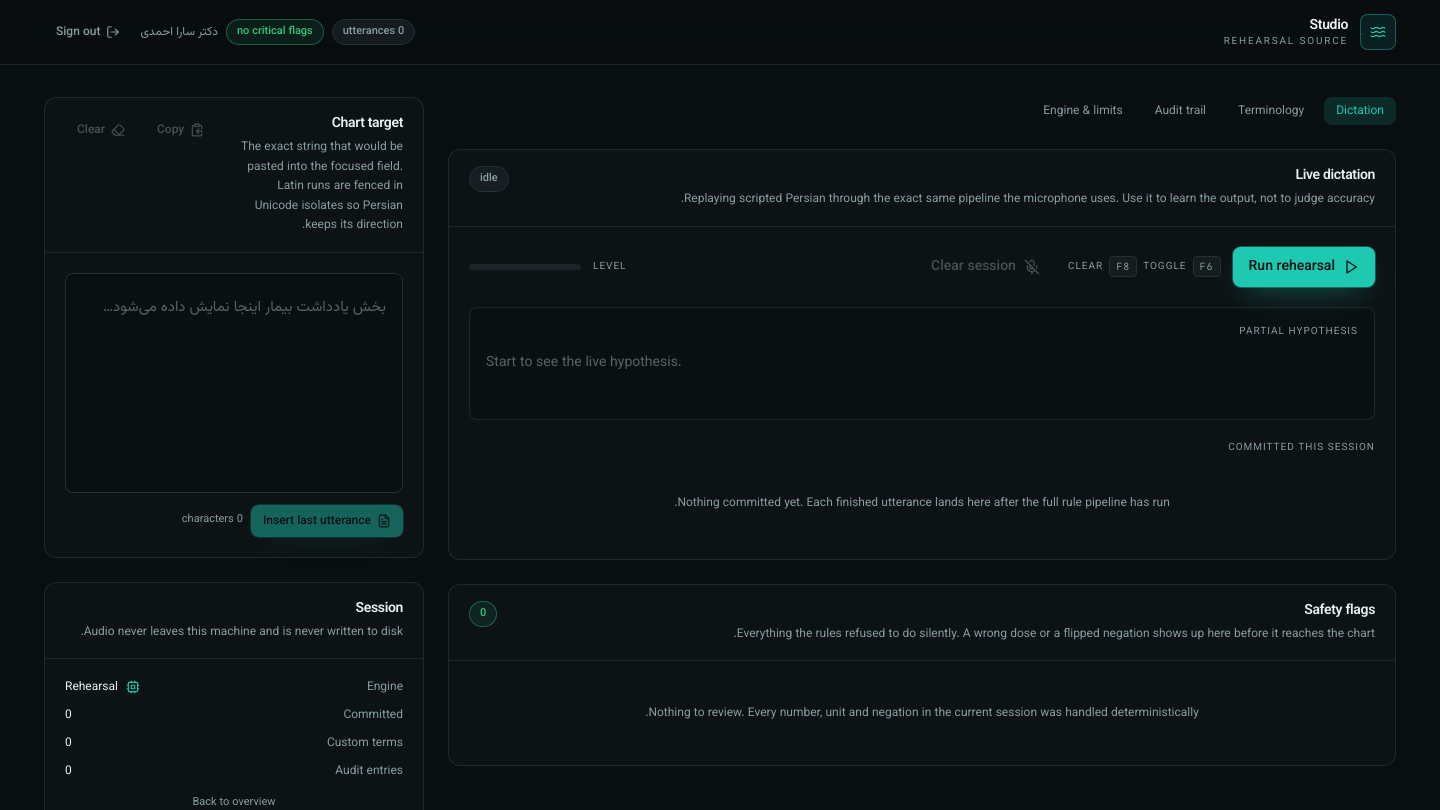
studio › starts a rehearsal session and commits processed utterances
The image size is (1440, 810).
Click the button "Run rehearsal" at point(1304, 266), box 1232,246 -> 1375,286
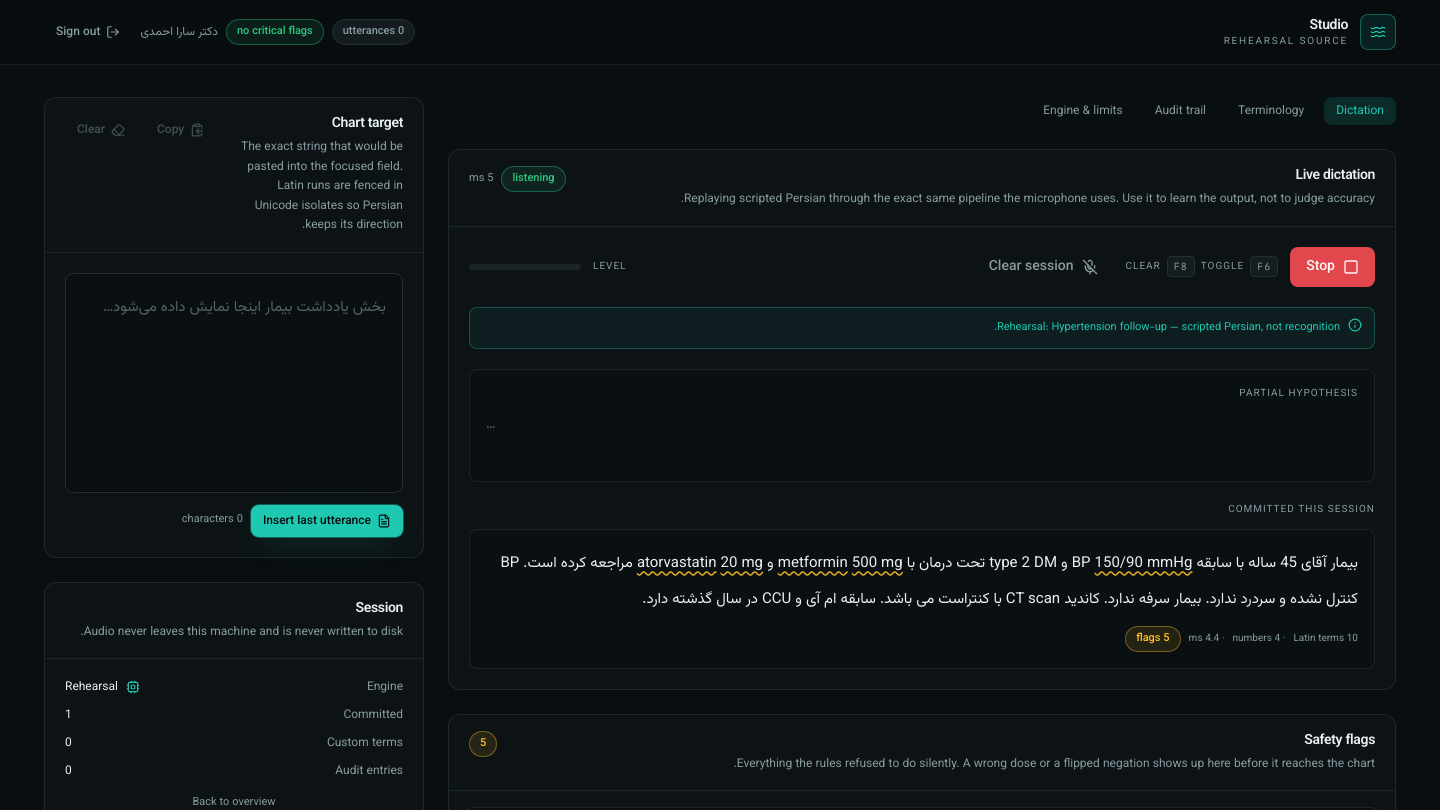
Result: the element with test id "committed-note" shows "metformin 500 mg" at 486,546 -> 1358,618
Result: the element with test id "committed-note" shows "BP 150/90 mmHg" at 486,546 -> 1358,618
Result: the element with test id "committed-note" shows "CT scan" at 486,546 -> 1358,618
